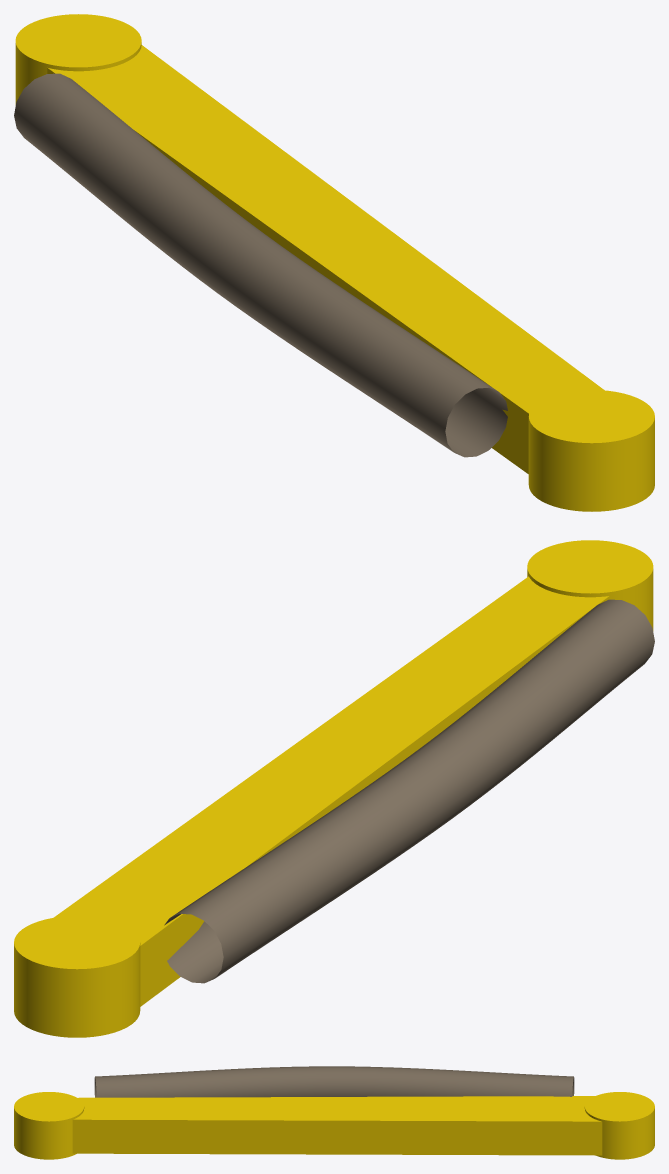
Rendered from rod_link.obj.
3 renders of one model, top to bottom at view 1: azimuth 30°, elevation 25°; view 2: azimuth 150°, elevation 25°; view 3: azimuth 270°, elevation 25°, orthographic. The views are drawn at different scales.
Parts seen in each view (by area): view 1: cable_sleeve, j3_rod, j3_rod_eye1, j3_rod_eye0; view 2: j3_rod, cable_sleeve, j3_rod_eye0, j3_rod_eye1; view 3: j3_rod, cable_sleeve, j3_rod_eye1, j3_rod_eye0.
Boxes of the visible parts, bbox=[...] form: cable_sleeve: bbox=[14, 73, 507, 457]; j3_rod: bbox=[47, 45, 604, 473]; j3_rod_eye1: bbox=[528, 390, 654, 511]; j3_rod_eye0: bbox=[15, 14, 141, 104]; j3_rod: bbox=[54, 576, 609, 1006]; cable_sleeve: bbox=[164, 599, 654, 983]; j3_rod_eye0: bbox=[14, 916, 140, 1037]; j3_rod_eye1: bbox=[527, 540, 653, 630]; j3_rod: bbox=[72, 1096, 602, 1155]; cable_sleeve: bbox=[94, 1066, 574, 1097]; j3_rod_eye1: bbox=[14, 1092, 84, 1159]; j3_rod_eye0: bbox=[584, 1092, 654, 1159].
Bounding box in the file's own units: 0.25 × 0.12 × 1.37.
